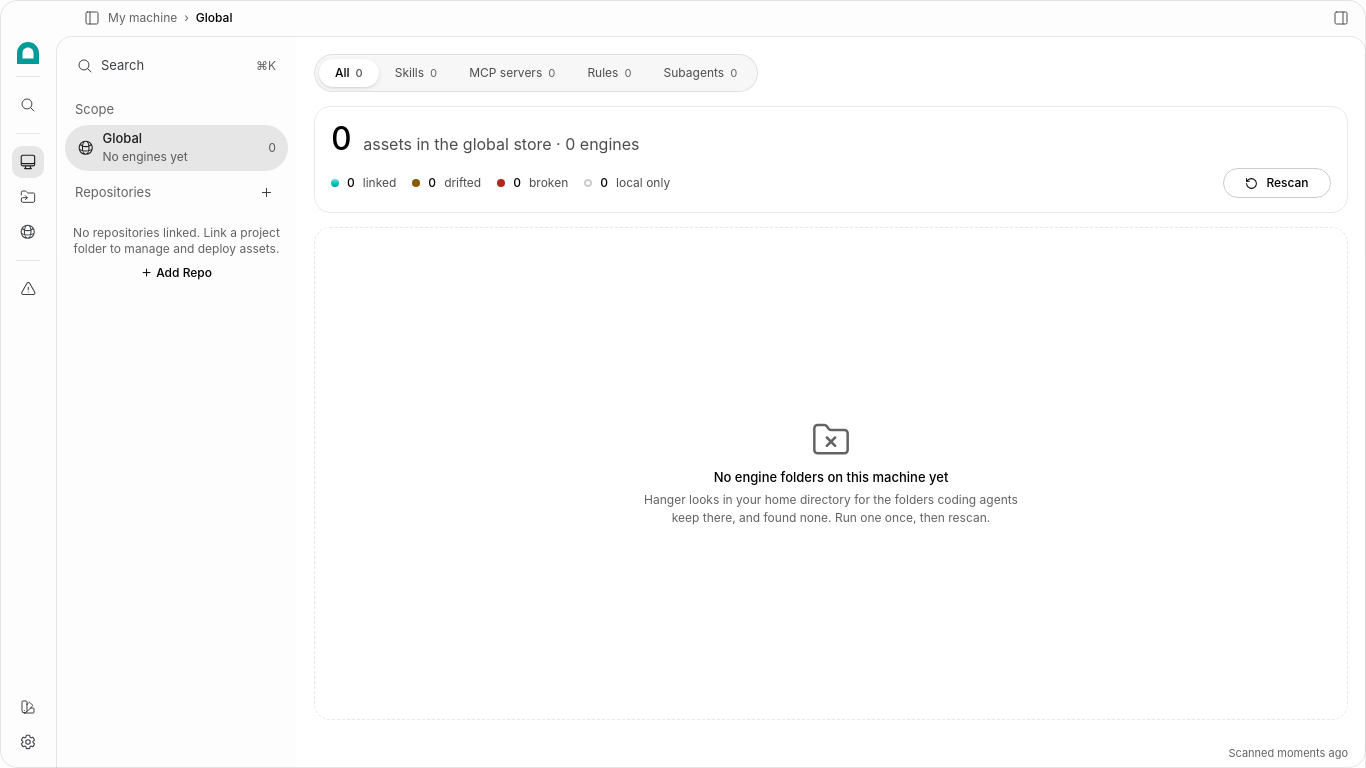
Scenario: Icon rail › switches to Needs review as a section, and persists the selection
Click the button named "Needs review" at (28, 289), box left=12, top=273, right=44, bottom=305
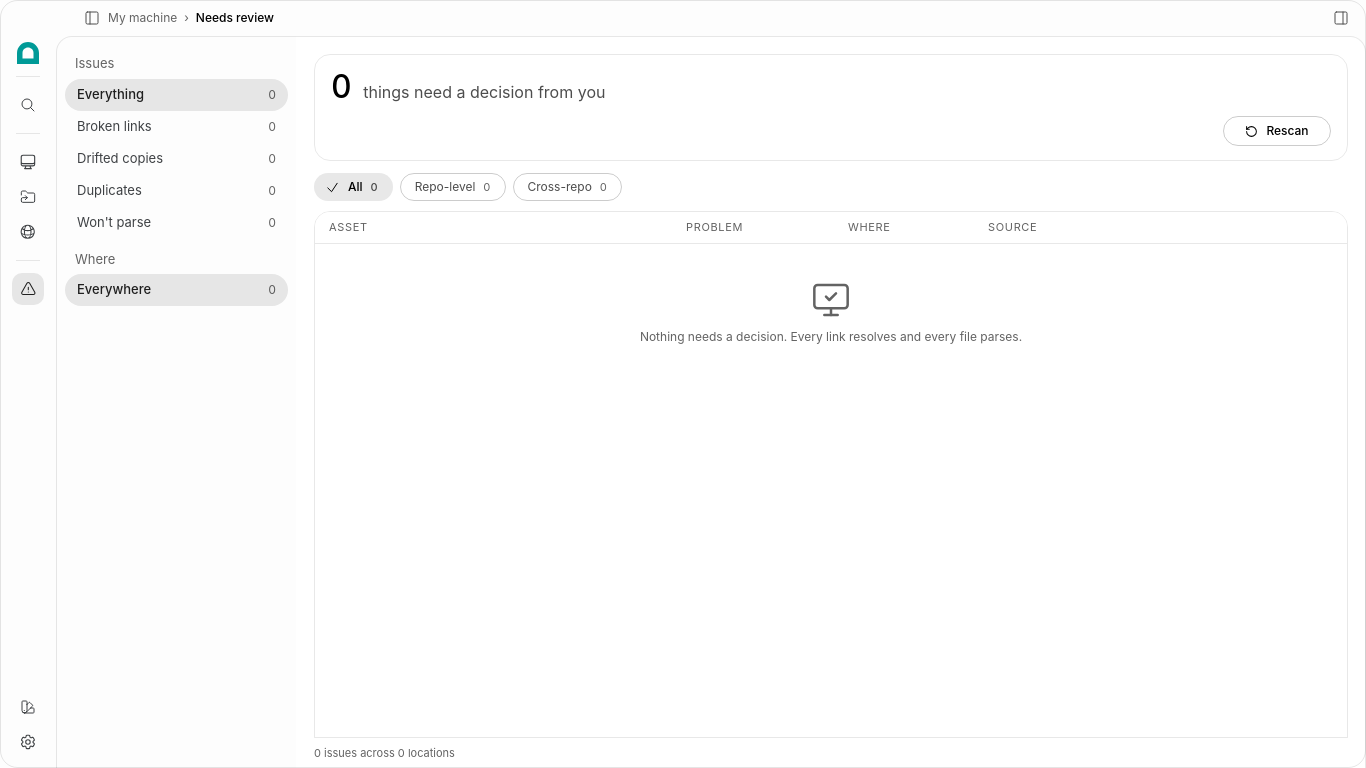
Expected: the element with test id "review-sidebar" is shown, left=56, top=36, right=296, bottom=767
Expected: the element with test id "sidebar" is gone
